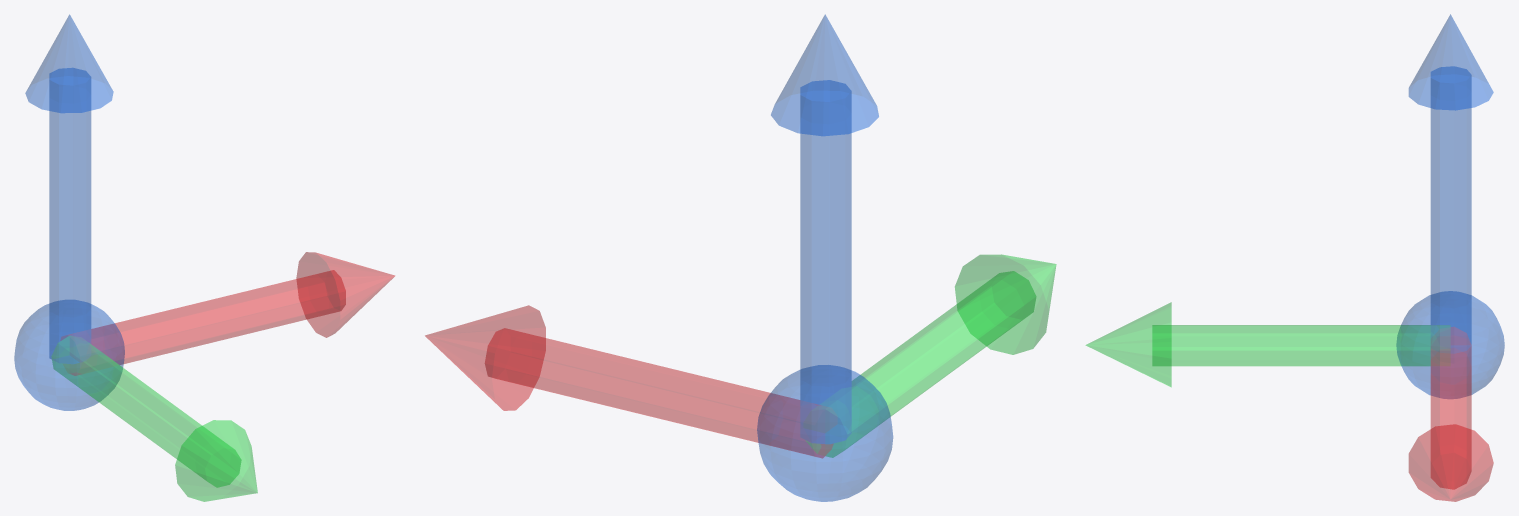
The model's file is object_center_marker.glb.
The picture shows the model from 3 angles, left to right: view 1: azimuth 30°, elevation 25°; view 2: azimuth 150°, elevation 25°; view 3: azimuth 270°, elevation 25°; orthographic projection. The views are drawn at different scales.
Parts seen in each view (by area): view 1: Sphere, Cone.002, Cone.001; view 2: Sphere, Cone.002, Cone.001; view 3: Sphere, Cone.001, Cone.002.
Part boxes in pixels (x1,y1,x2,y2): Sphere: (14, 14, 124, 410); Cone.002: (60, 252, 394, 375); Cone.001: (51, 336, 257, 501); Sphere: (757, 14, 892, 501); Cone.002: (425, 305, 832, 458); Cone.001: (806, 254, 1056, 457); Sphere: (1396, 14, 1504, 398); Cone.001: (1086, 302, 1450, 386); Cone.002: (1409, 327, 1493, 501).
Size of the model in its own units: 1.93 by 1.93 by 1.93.
